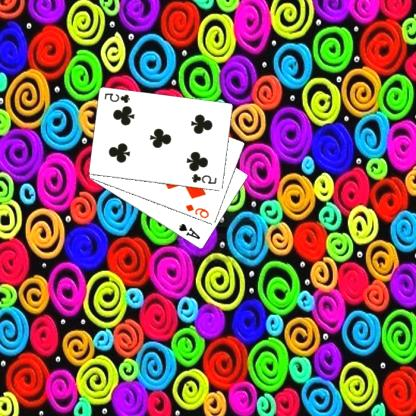5C: (191, 171, 220, 186), (104, 90, 133, 105)
9D: (185, 201, 212, 220)
AS: (178, 221, 203, 241)
